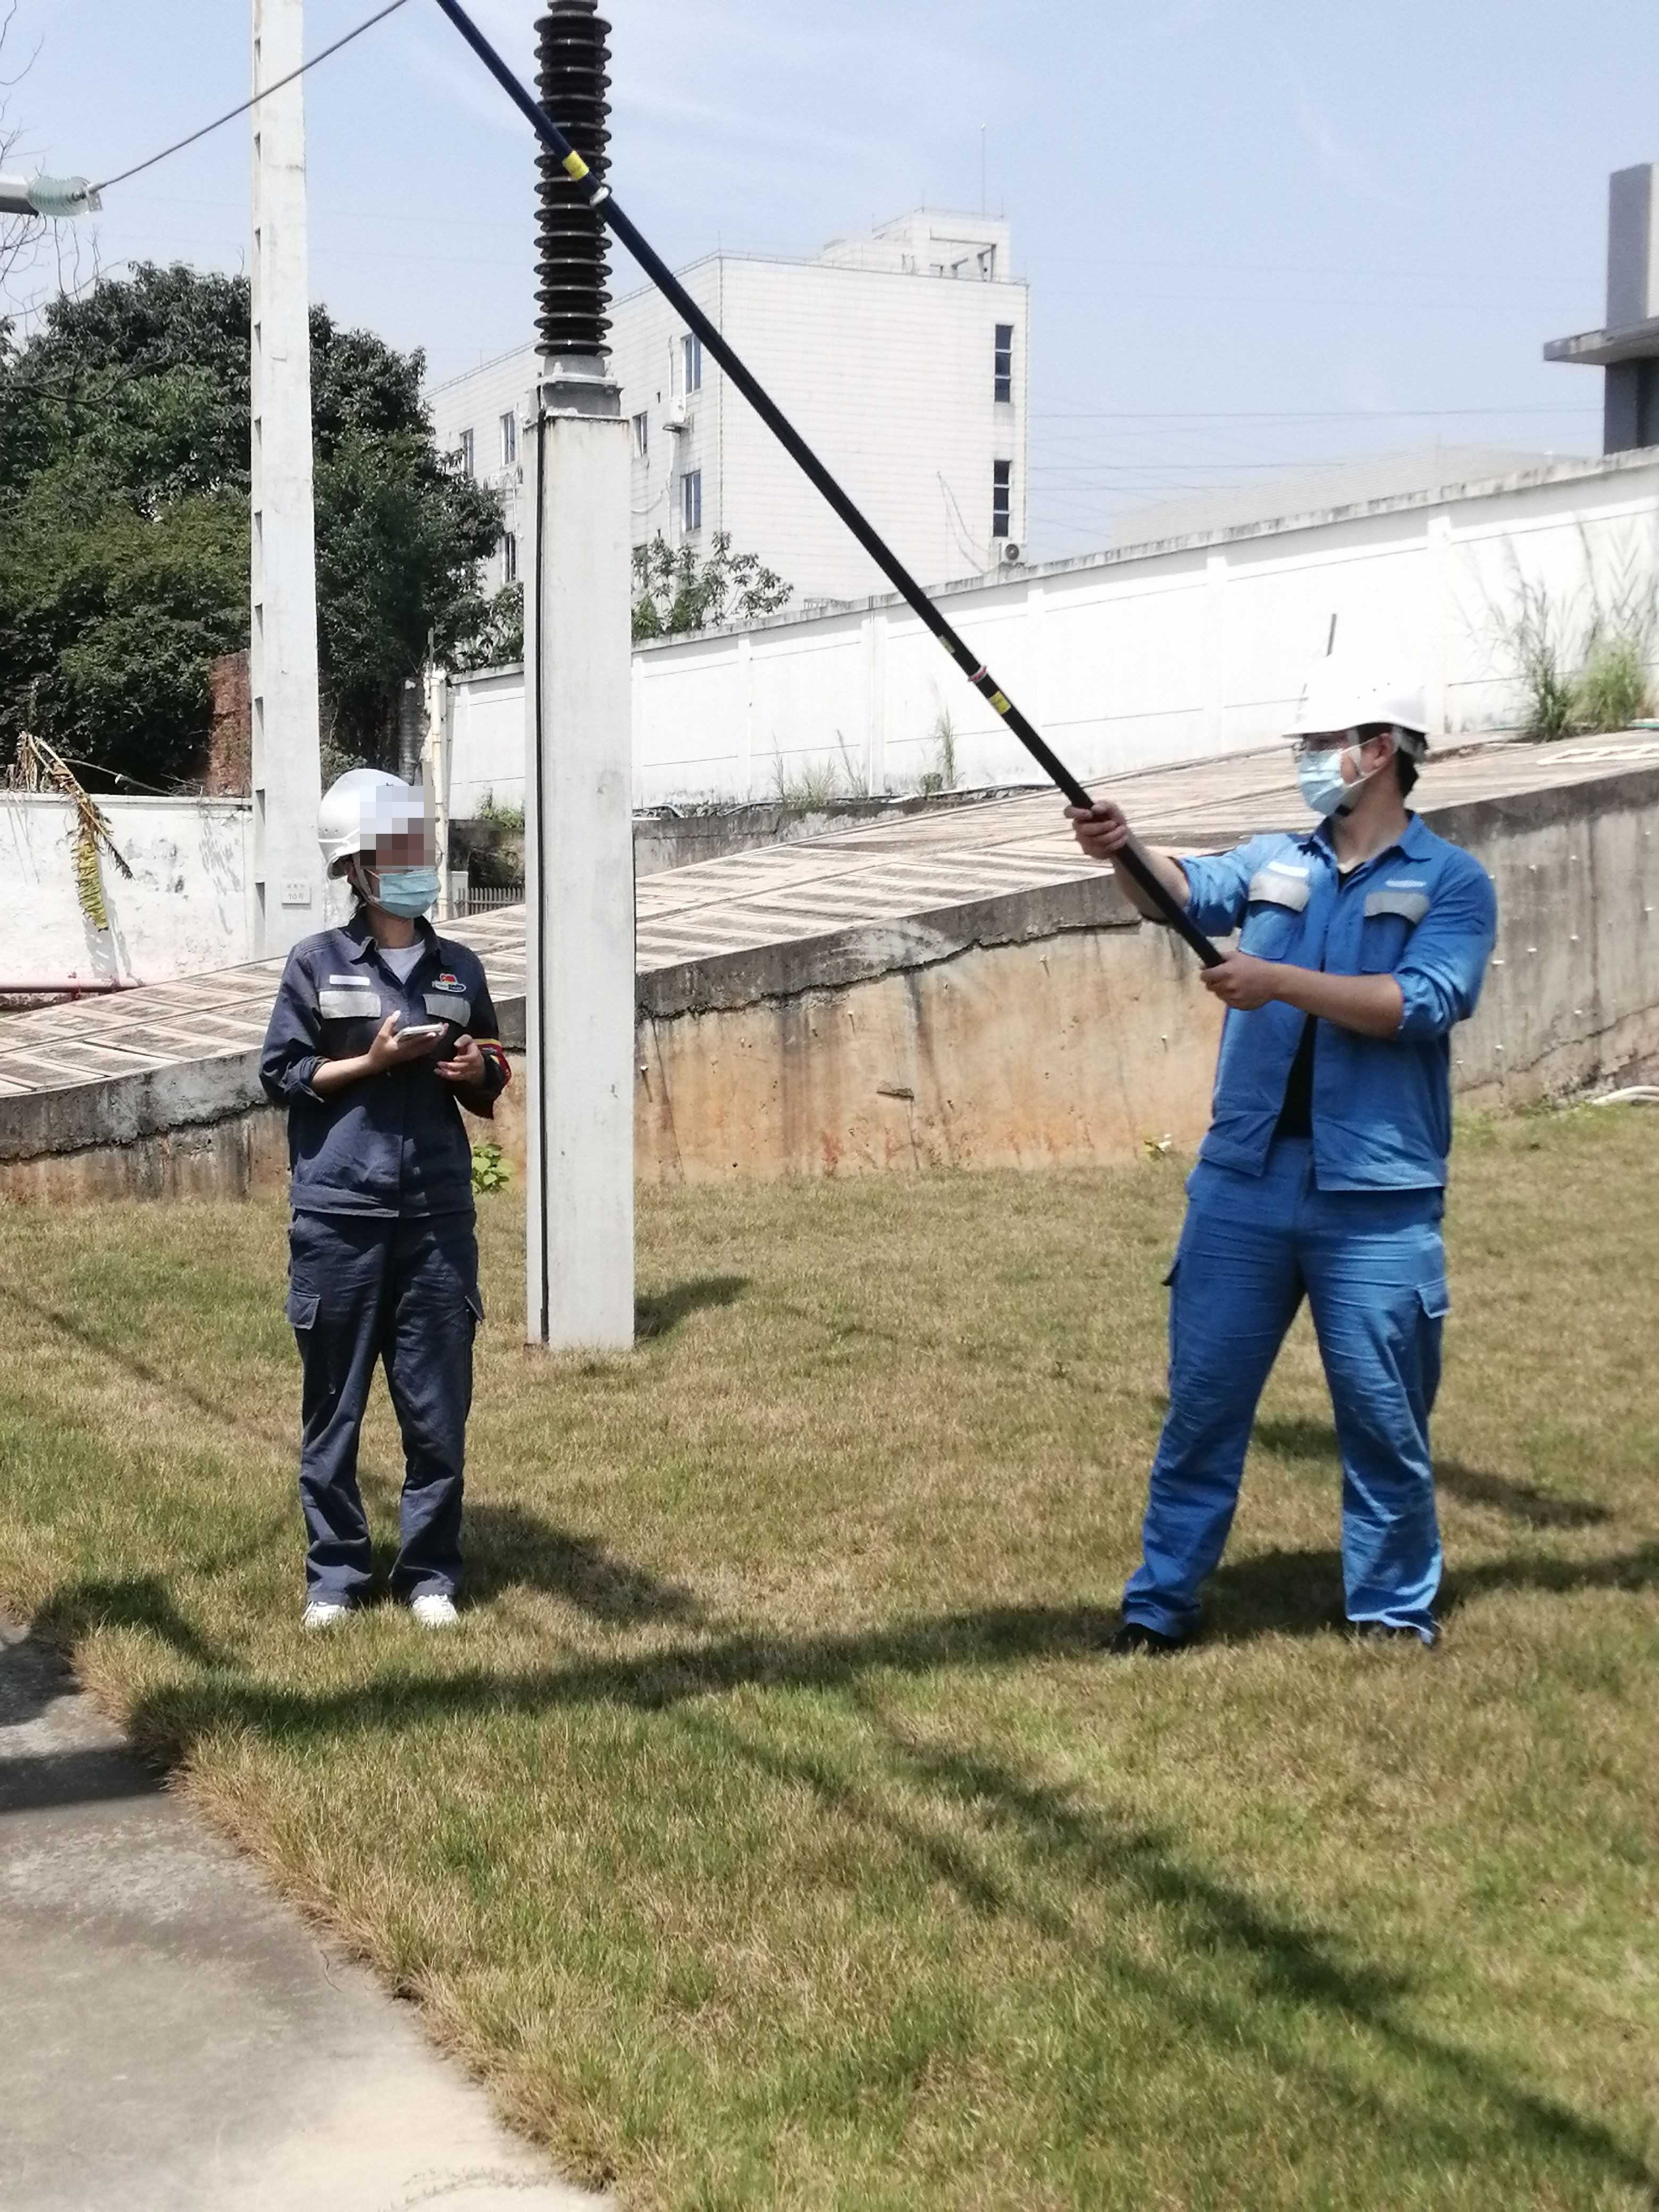downsuit: (1115, 1226, 1462, 1625), (281, 1221, 486, 1576)
upsuit: (1197, 822, 1493, 1190), (1194, 824, 1476, 1069), (282, 923, 511, 1190)
wrongtop: (1227, 941, 1457, 1035), (1108, 827, 1230, 930), (263, 1036, 389, 1106)
